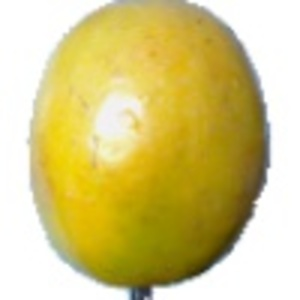maracujá: (22, 1, 273, 300)
